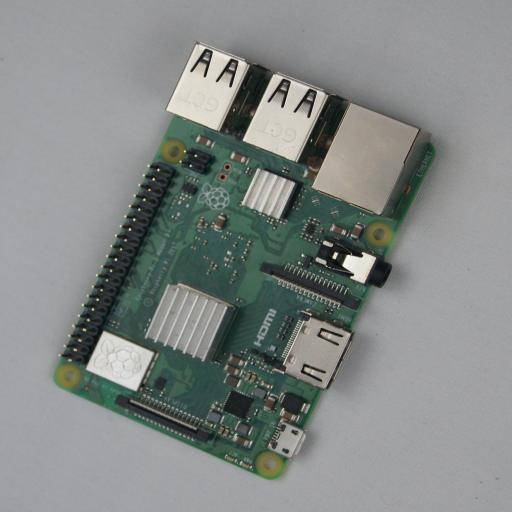Raspberry Pi 3 B-: (59, 41, 443, 479)
